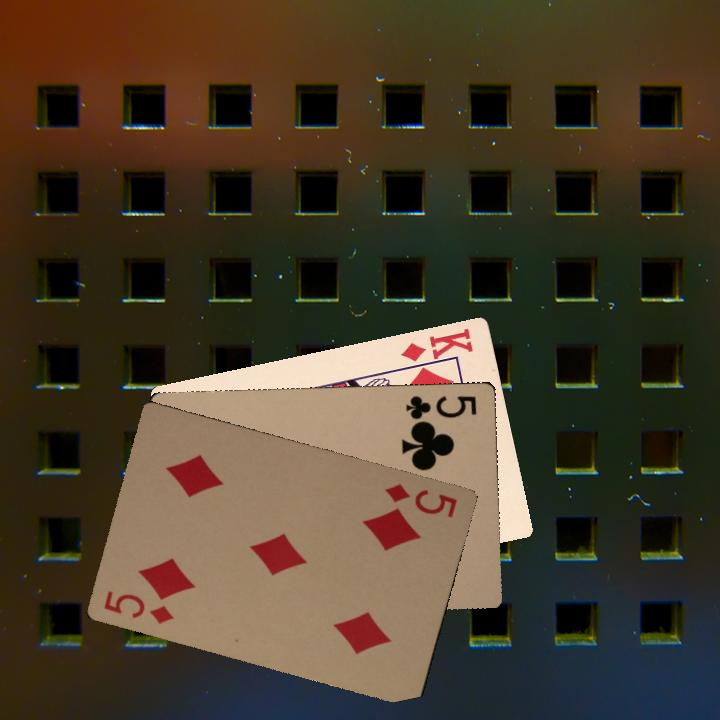5c: (401, 391, 480, 427)
5d: (381, 479, 460, 520), (99, 586, 176, 627)
Kd: (399, 324, 476, 373)
